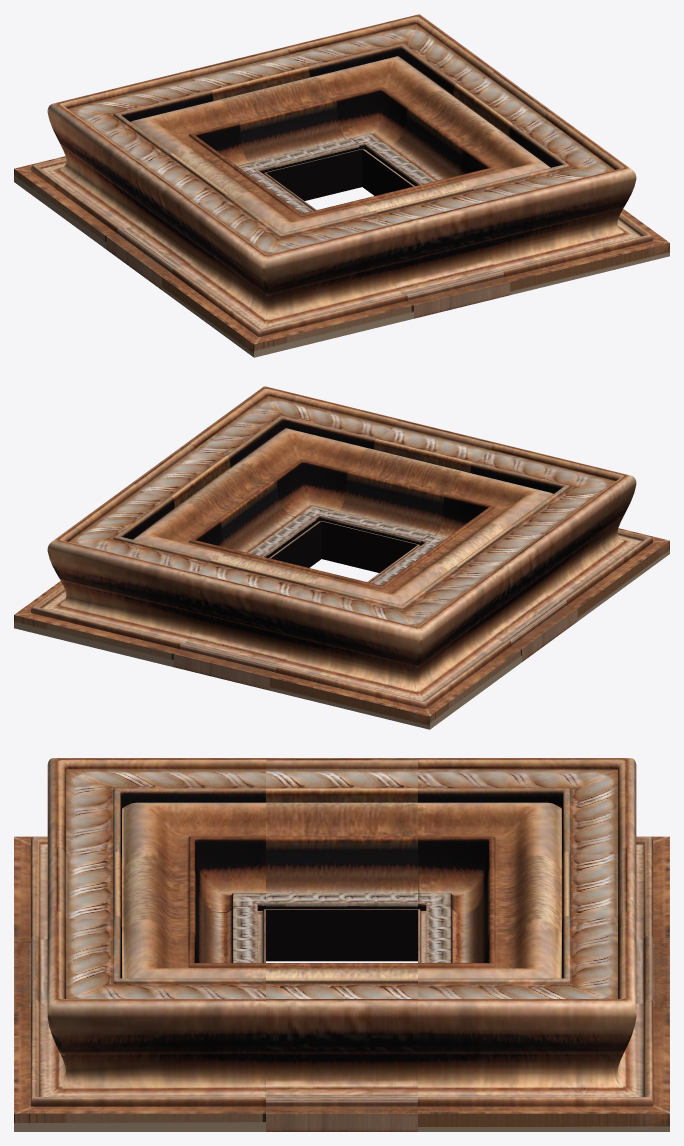
File: website4-wood.FBX
3 renders of one model, top to bottom at view 1: azimuth 30°, elevation 25°; view 2: azimuth 150°, elevation 25°; view 3: azimuth 270°, elevation 25°, orthographic. The views are drawn at different scales.
Visible parts, largest first — view 1: website5wood_bottom_L_Corner, website5wood_bottom_R_Corner, website5wood_top_L_Corner, website5wood_top, website5wood_top_R_Corner, website5wood_bottom, website5wood_R, website5wood_L; view 2: website5wood_top_L_Corner, website5wood_top_R_Corner, website5wood_bottom_L_Corner, website5wood_bottom, website5wood_bottom_R_Corner, website5wood_top, website5wood_R, website5wood_L; view 3: website5wood_top_R_Corner, website5wood_bottom_R_Corner, website5wood_L, website5wood_bottom_L_Corner, website5wood_top_L_Corner, website5wood_R, website5wood_top, website5wood_bottom.
Boxes of the visible parts, x1=… form: website5wood_bottom_L_Corner: x1=162, y1=192, x2=413, y2=357; website5wood_bottom_R_Corner: x1=445, y1=111, x2=669, y2=294; website5wood_top_L_Corner: x1=14, y1=70, x2=265, y2=248; website5wood_top: x1=189, y1=47, x2=362, y2=200; website5wood_top_R_Corner: x1=285, y1=14, x2=497, y2=151; website5wood_bottom: x1=348, y1=179, x2=510, y2=318; website5wood_R: x1=362, y1=71, x2=552, y2=195; website5wood_L: x1=106, y1=151, x2=316, y2=289; website5wood_top_L_Corner: x1=270, y1=564, x2=521, y2=729; website5wood_top_R_Corner: x1=14, y1=483, x2=238, y2=666; website5wood_bottom_L_Corner: x1=418, y1=442, x2=669, y2=620; website5wood_bottom: x1=321, y1=419, x2=494, y2=572; website5wood_bottom_R_Corner: x1=186, y1=386, x2=398, y2=523; website5wood_top: x1=173, y1=551, x2=335, y2=690; website5wood_R: x1=131, y1=443, x2=321, y2=567; website5wood_L: x1=367, y1=523, x2=577, y2=661; website5wood_top_R_Corner: x1=418, y1=911, x2=669, y2=1131; website5wood_bottom_R_Corner: x1=14, y1=911, x2=265, y2=1131; website5wood_L: x1=266, y1=758, x2=417, y2=961; website5wood_bottom_L_Corner: x1=14, y1=758, x2=265, y2=942; website5wood_top_L_Corner: x1=418, y1=758, x2=669, y2=942; website5wood_R: x1=266, y1=963, x2=417, y2=1131; website5wood_top: x1=418, y1=847, x2=669, y2=1007; website5wood_bottom: x1=14, y1=847, x2=265, y2=1007.
Bounding box in the file's own units: 514 × 514 × 98.47.
2 materials, 2 textured.
